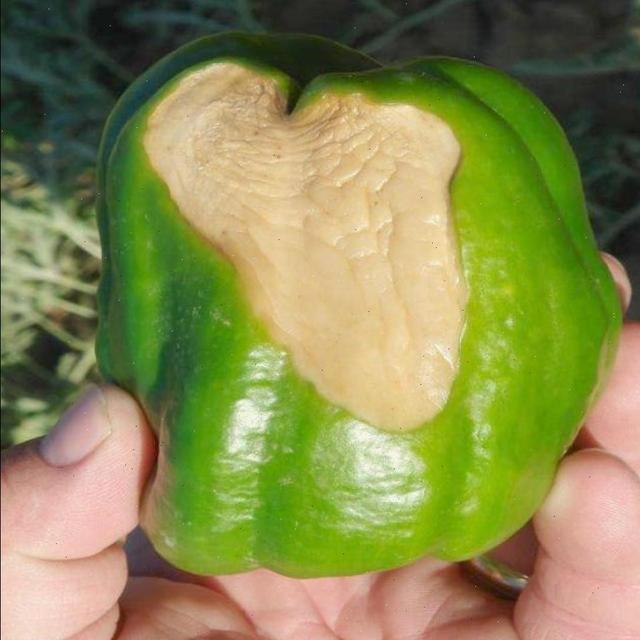Sunscald Fruit: (91, 46, 347, 291)
